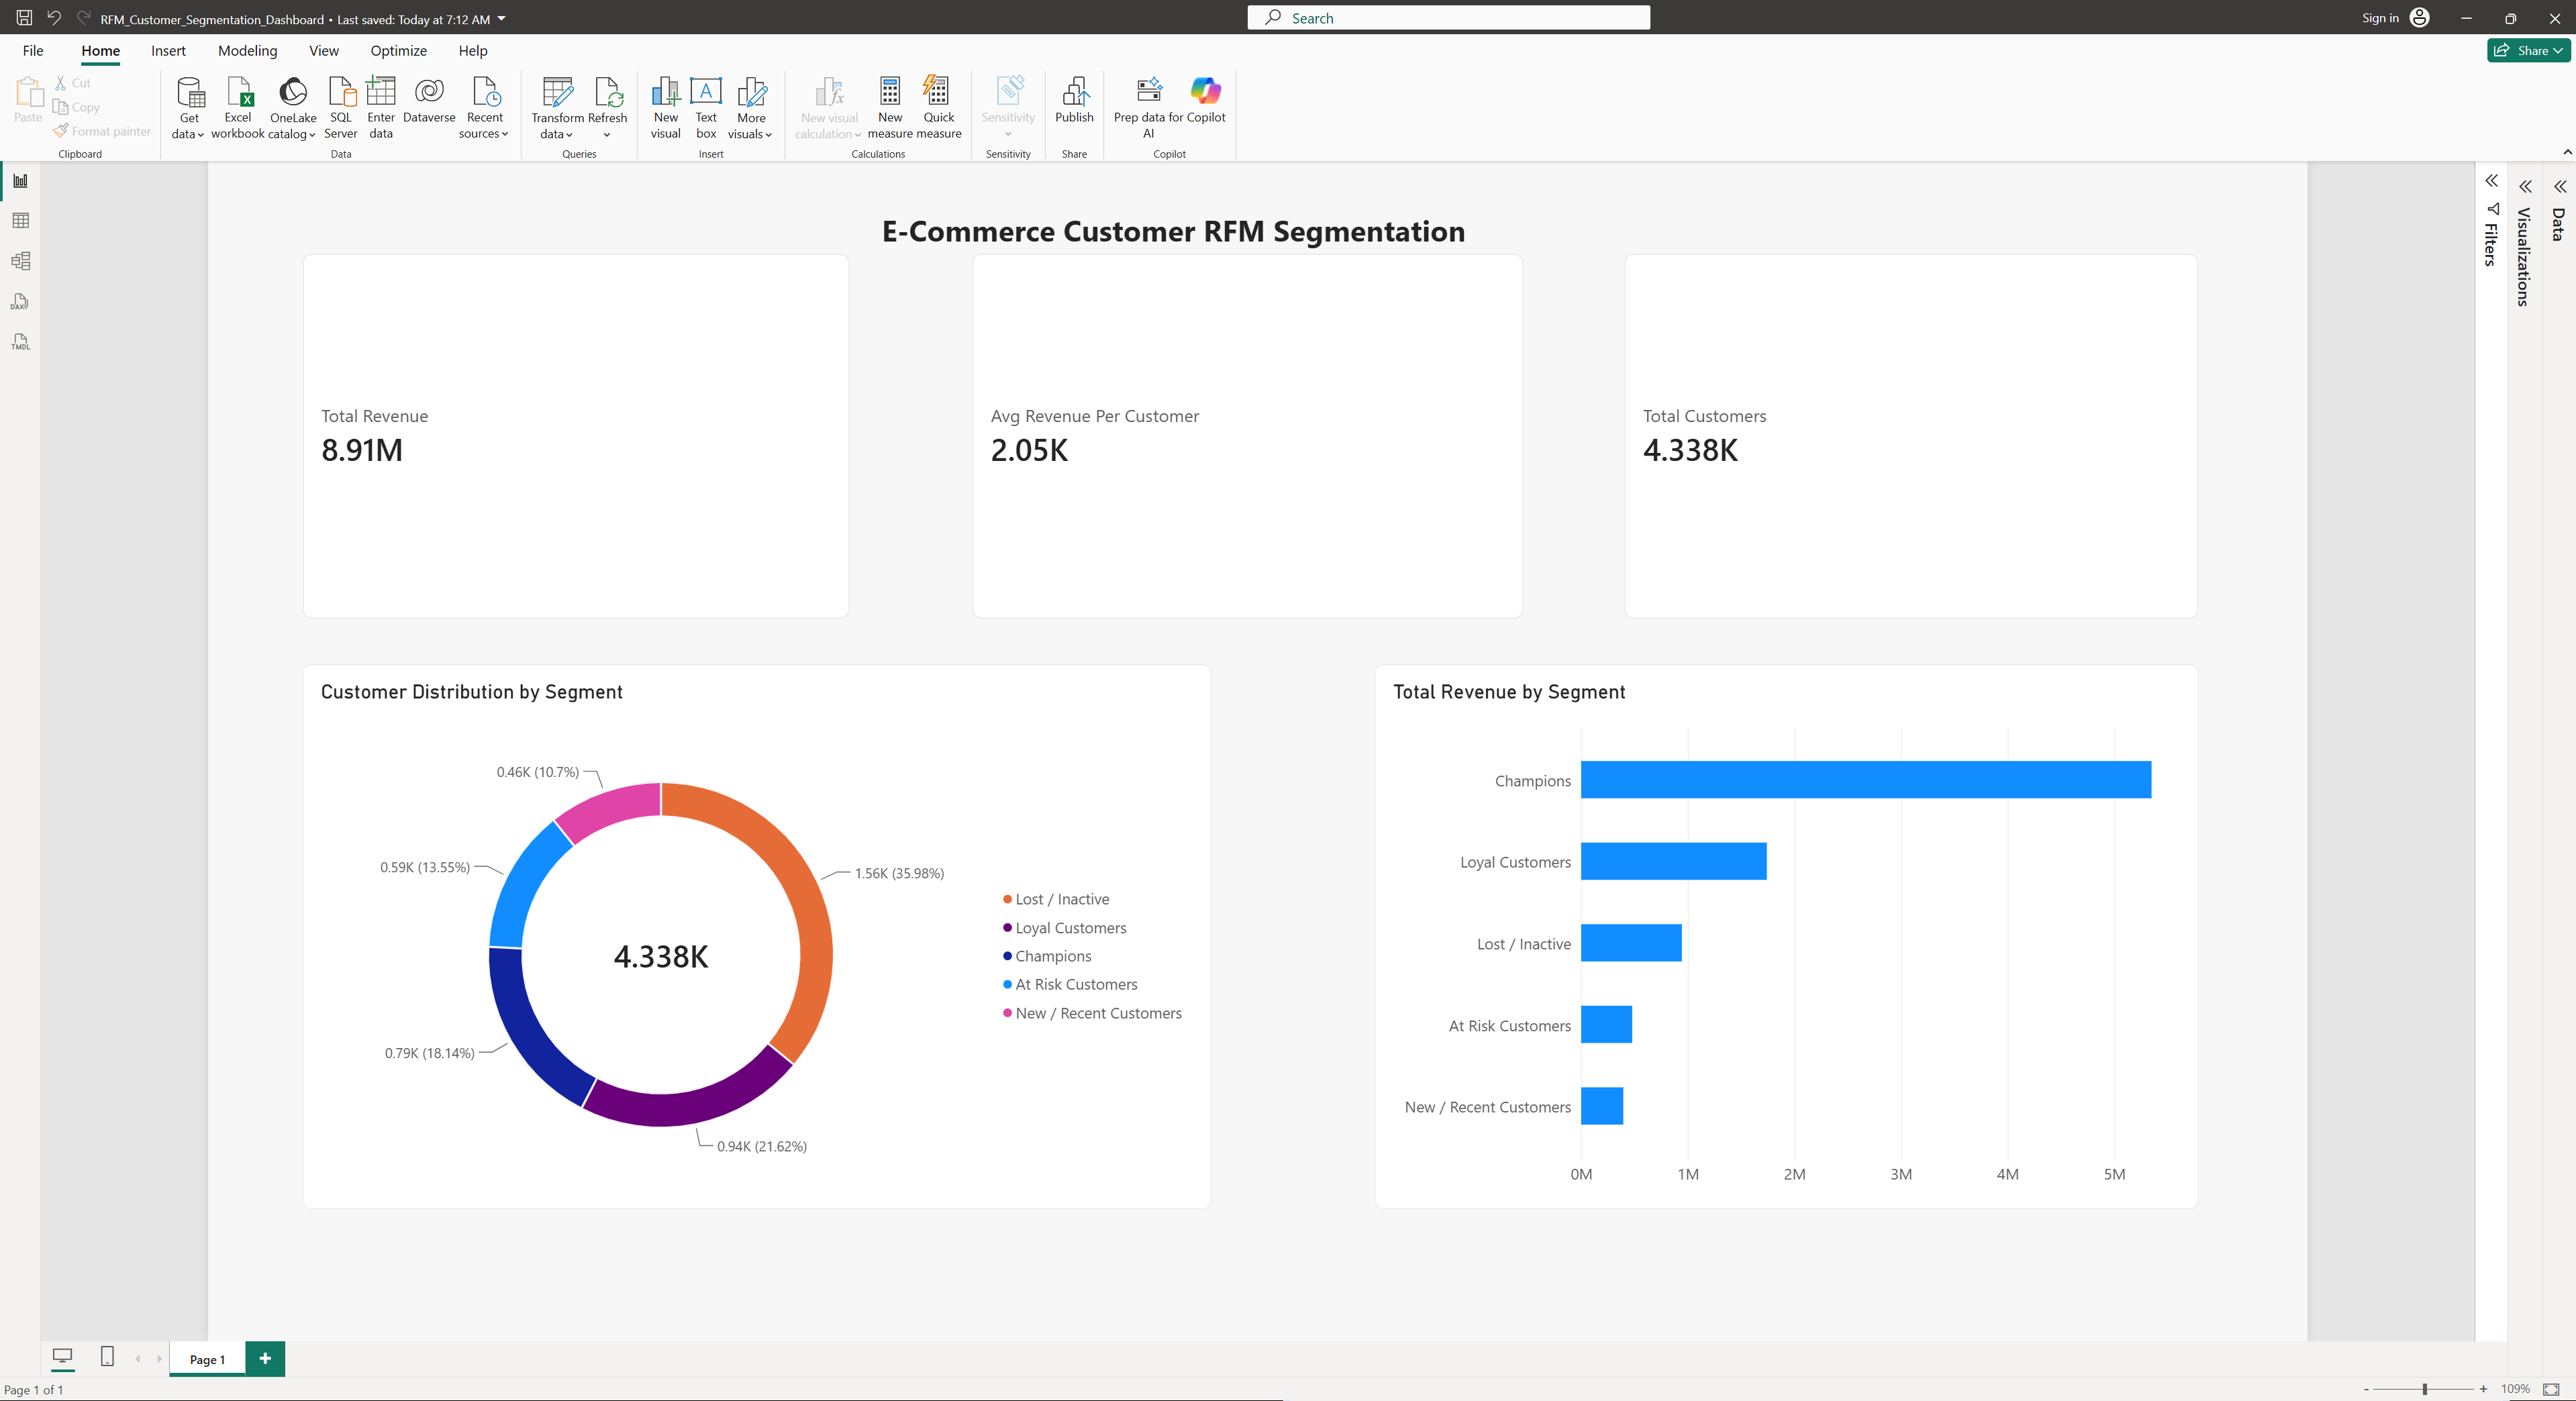

The dashboard page shown, as its layout file describes it:
{"tool":"powerbi","page":{"name":"Page 1","canvas":[1920,1080],"ordinal":0},"visuals":[{"type":"cardVisual","fields":{"Data":["Sum(rfm_customer_segments.totalspent)"]},"box":[86.7,84.9,500.5,334.3],"z":0},{"type":"cardVisual","fields":{"Data":["Count(rfm_customer_segments.customerid)"]},"box":[1295.5,84.9,525.8,334.3],"z":1000},{"type":"cardVisual","fields":{"Data":["Avg(rfm_customer_segments.totalspent)"]},"box":[699.2,84.9,504.1,334.3],"z":2000},{"type":"donutChart","title":"Customer Distribution by Segment","fields":{"Category":["rfm_customer_segments.customersegment"],"Y":["CountNonNull(rfm_customer_segments.customerid)"]},"box":[86.7,460.7,831.1,498.7],"z":3000},{"type":"clusteredBarChart","title":"Total Revenue by Segment","fields":{"Category":["rfm_customer_segments.customersegment"],"Y":["Sum(rfm_customer_segments.totalspent)"]},"box":[1067.8,460.7,753.4,498.7],"z":4000},{"type":"textbox","box":[1615,665,305,289],"z":5000},{"type":"textbox","box":[612.5,45.2,608.9,157.2],"z":5001}]}

Visuals, with their boxes on the page's 1920x1080 design canvas (x1, y1, x2, y2). These are canvas units, not pixel positions in the 2576x1401 screenshot, which may show the page scaled, cropped or inside an application window:
cardVisual - Sum(rfm_customer_segments.totalspent): pyautogui.locateOnScreen(87, 85, 587, 419)
cardVisual - Count(rfm_customer_segments.customerid): pyautogui.locateOnScreen(1296, 85, 1821, 419)
cardVisual - Avg(rfm_customer_segments.totalspent): pyautogui.locateOnScreen(699, 85, 1203, 419)
"Customer Distribution by Segment" donutChart: pyautogui.locateOnScreen(87, 461, 918, 959)
"Total Revenue by Segment" clusteredBarChart: pyautogui.locateOnScreen(1068, 461, 1821, 959)
textbox: pyautogui.locateOnScreen(1615, 665, 1920, 954)
textbox: pyautogui.locateOnScreen(612, 45, 1221, 202)
